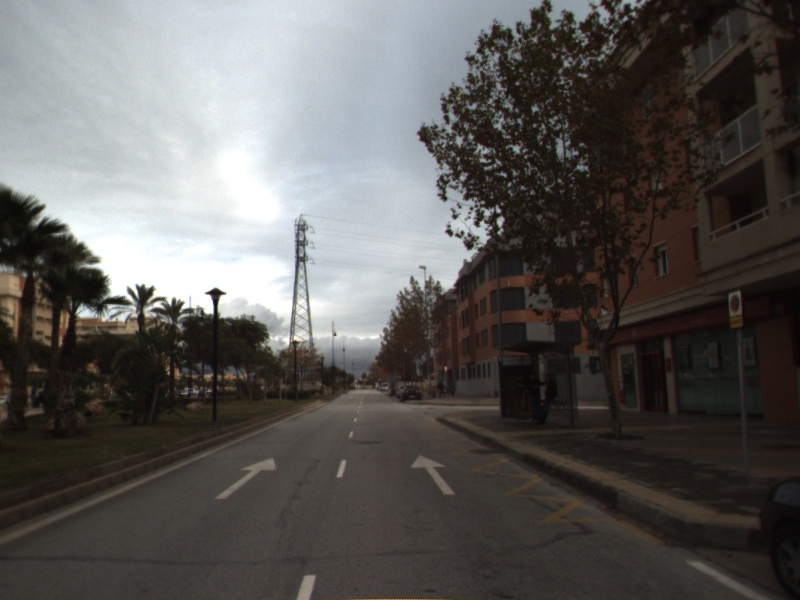STRAIGHT: (213, 455, 278, 501), (409, 453, 457, 496)
